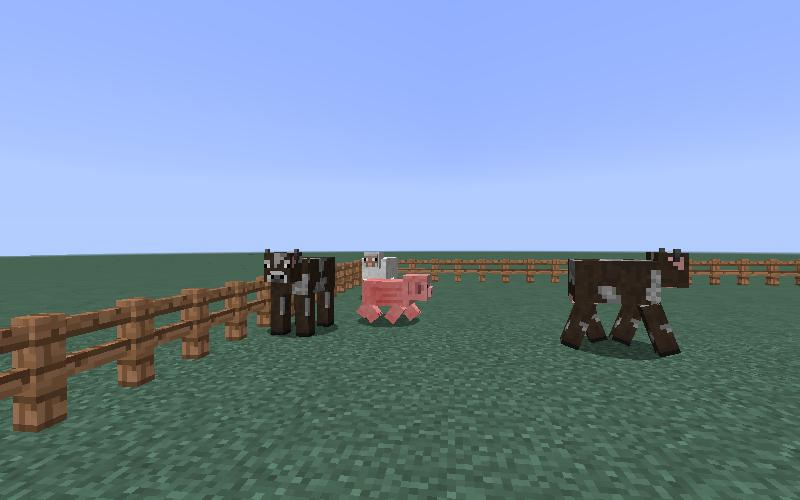cow: (554, 246, 694, 362), (260, 246, 337, 339)
pig: (354, 272, 435, 330)
sheep: (361, 251, 398, 280)
